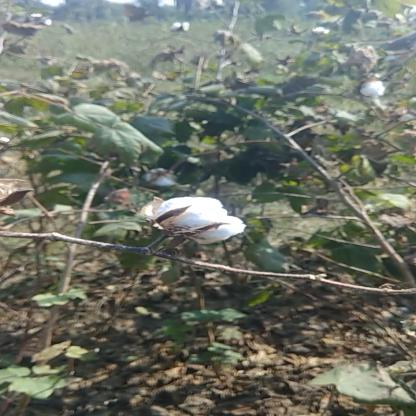cotton_ready: (133, 194, 258, 266)
